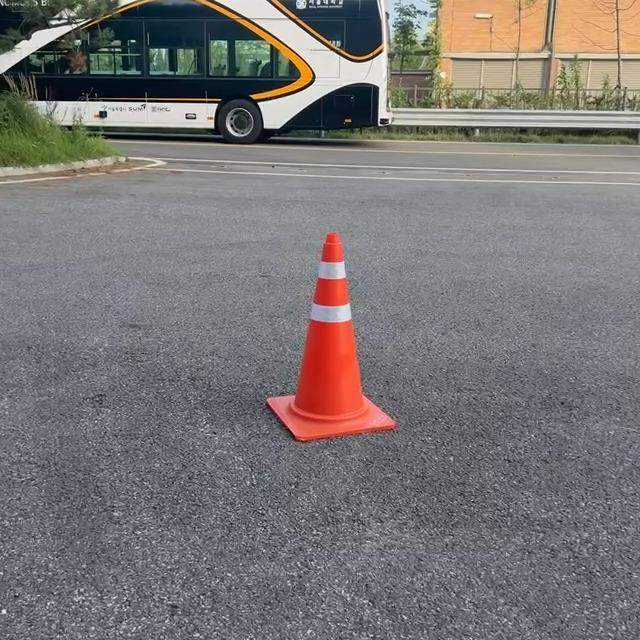fallen_object: (225, 207, 456, 474)
